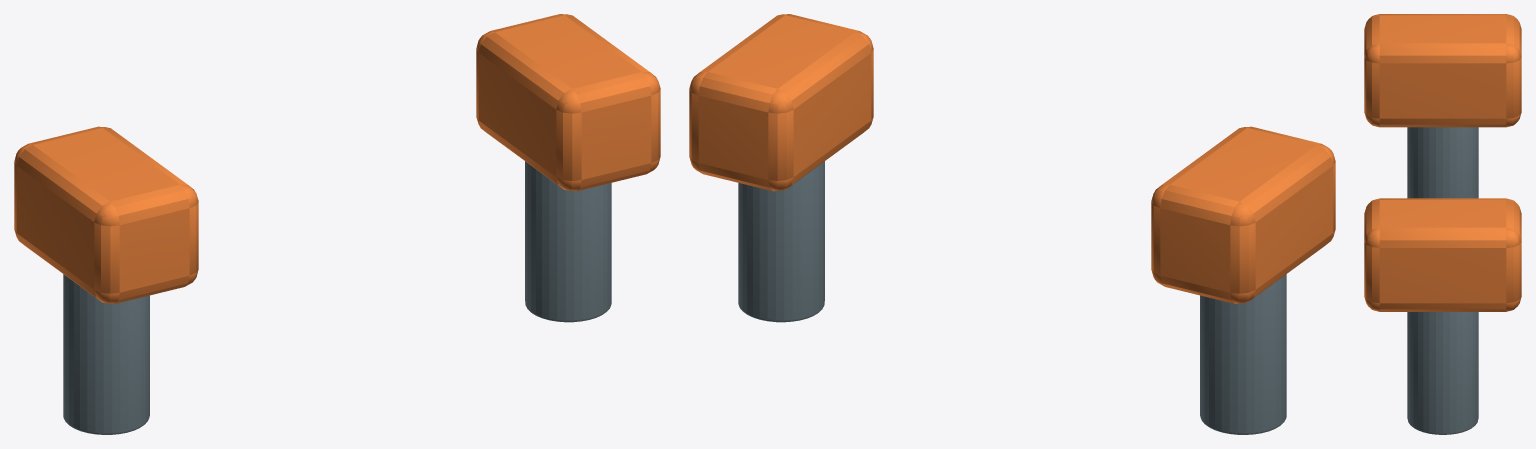
The model's file is SM_Mech_CouplerPins.fbx.
3 renders of one model, left to right at view 1: azimuth 30°, elevation 25°; view 2: azimuth 150°, elevation 25°; view 3: azimuth 270°, elevation 25°, orthographic. The views are drawn at different scales.
Visible parts, largest first — view 1: SM_Mech_CouplerPins; view 2: SM_Mech_CouplerPins; view 3: SM_Mech_CouplerPins.
Boxes of the visible parts, box(x1,y1,x2,y2) form: SM_Mech_CouplerPins: box(14, 14, 660, 434); SM_Mech_CouplerPins: box(689, 14, 1335, 434); SM_Mech_CouplerPins: box(1364, 14, 1521, 434).
Bounding box in the file's own units: 105 × 31 × 45.
